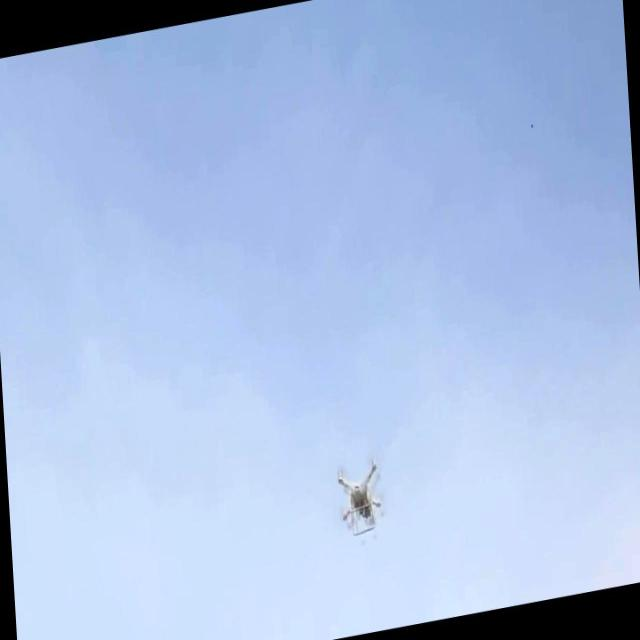drone: (333, 456, 386, 541)
